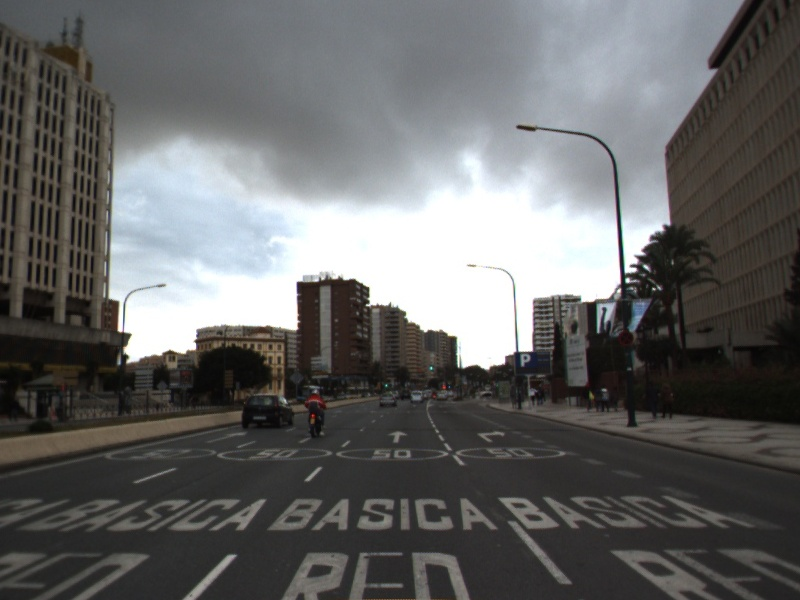RIGHT: (474, 428, 508, 444)
STRAIGHT: (204, 428, 251, 445), (385, 428, 410, 445)
